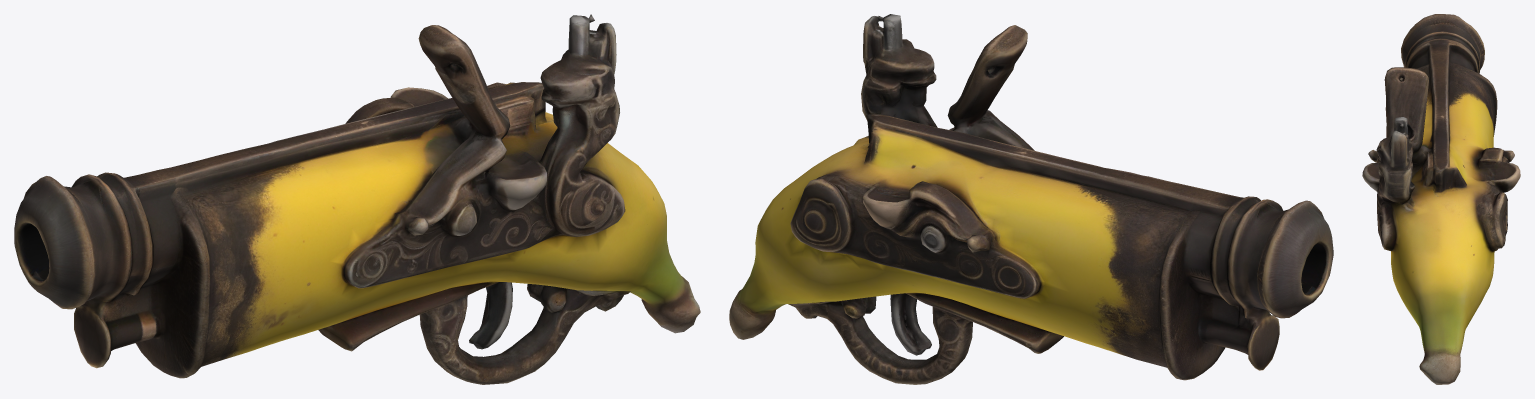
File: Banana Flintlock.fbx
3 views of the same model, side by side, from view 1: azimuth 30°, elevation 25°; view 2: azimuth 150°, elevation 25°; view 3: azimuth 270°, elevation 25° (orthographic). The views are drawn at different scales.
Visible parts, largest first — view 1: Mesh_0; view 2: Mesh_0; view 3: Mesh_0.
Part boxes in pixels (x1=…): Mesh_0: x1=14, y1=14, x2=700, y2=384; Mesh_0: x1=729, y1=14, x2=1333, y2=384; Mesh_0: x1=1362, y1=14, x2=1520, y2=384.
Bounding box in the file's own units: 200 × 115 × 67.7.
Materials: 1 (1 with a texture image).
